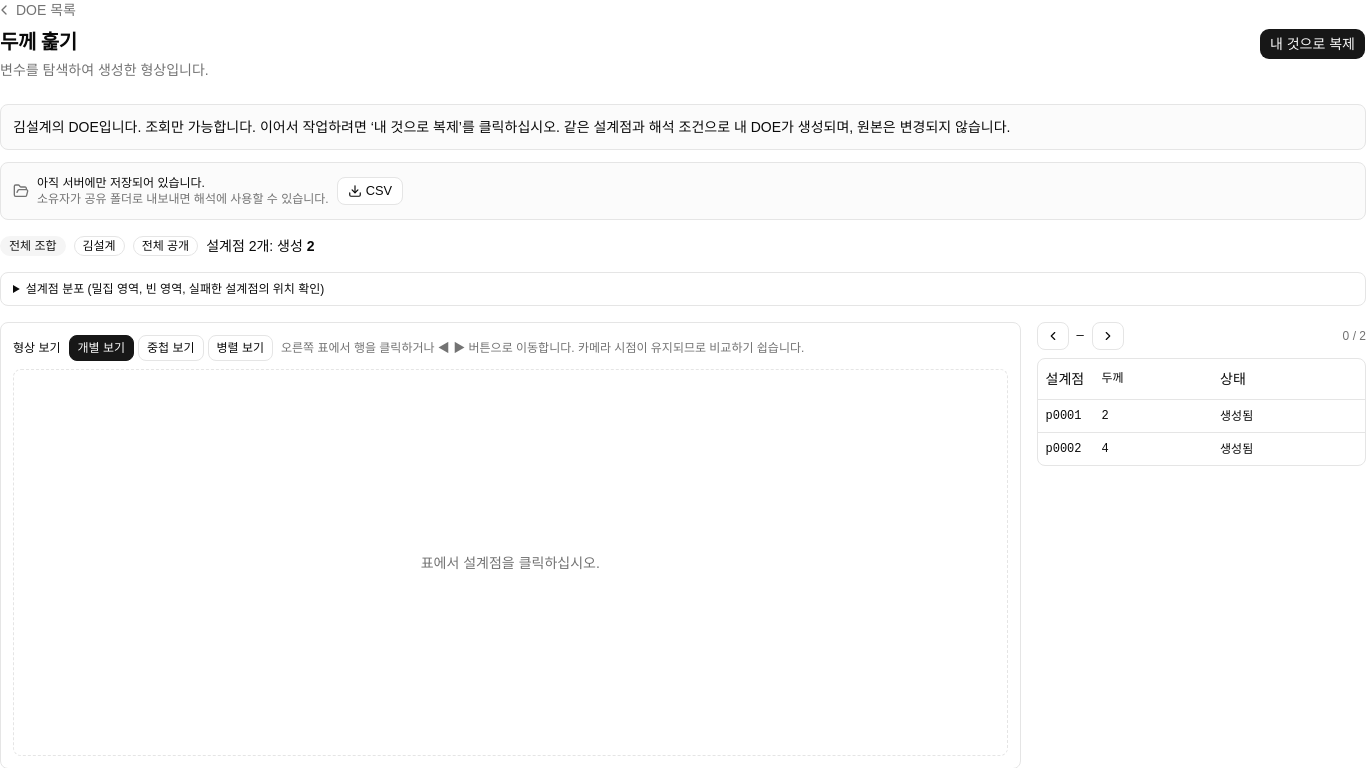
Test: 남의 DOE 는 보기만 되고, 내 것으로 복제하면 내 DOE 로 간다
Check: the text "김설계의 DOE입니다" is shown, box [0,104,1365,150]
Check: the button "공유 폴더로 내보내기" is not shown
Click the button "내 것으로 복제".
click(1312, 44)  # box [1259,28,1365,60]
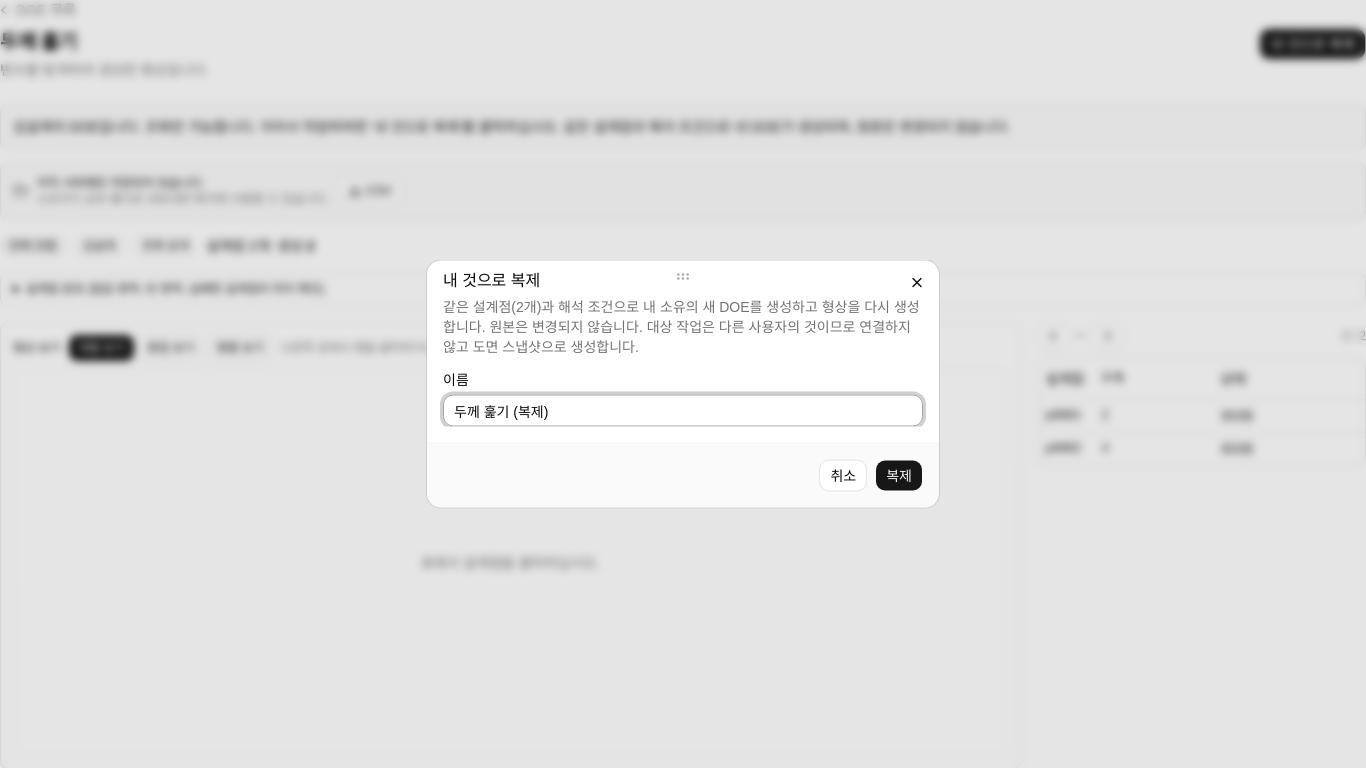
Check: the field labelled "이름" holds "두께 훑기 (복제)", box [443,394,923,426]
Click the button "복제".
click(899, 476)  # box [875,460,923,492]
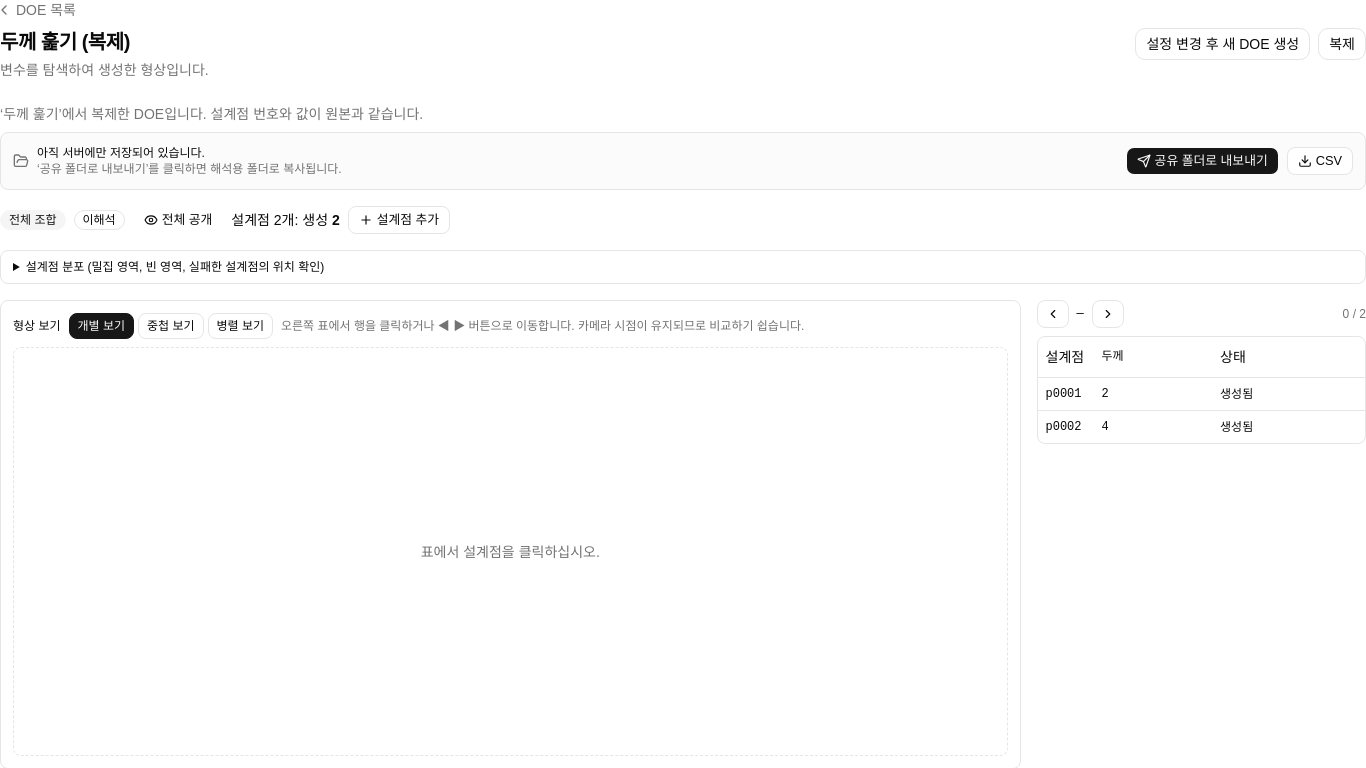
Check: the button "설계점 추가" is shown, box [348,206,450,234]
